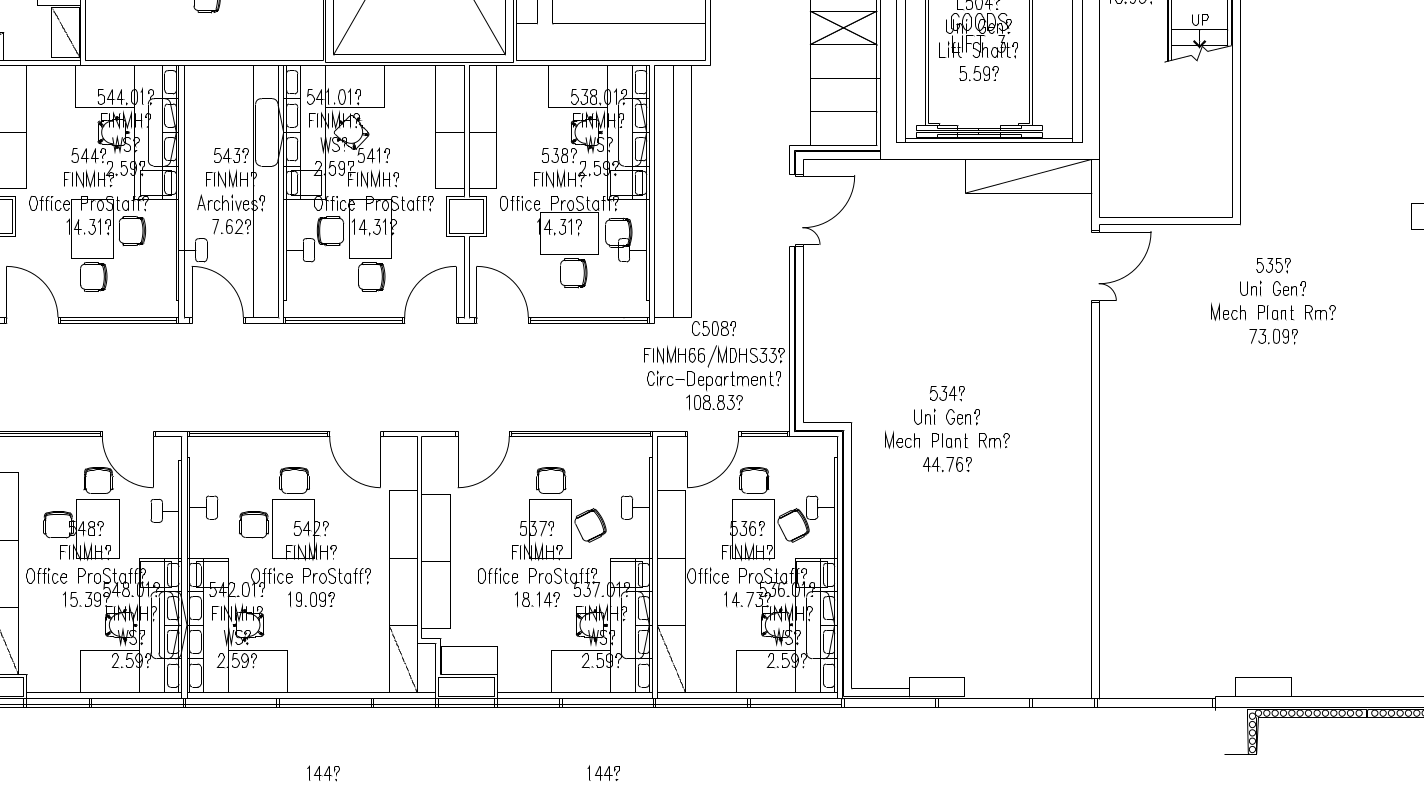door: (473, 255, 534, 322), (399, 260, 460, 327), (454, 428, 515, 495), (326, 428, 387, 495), (187, 262, 248, 329), (1, 259, 62, 326), (100, 425, 161, 492), (682, 425, 743, 492), (1091, 227, 1160, 285), (794, 172, 863, 229), (789, 227, 830, 247), (1085, 283, 1126, 302)
